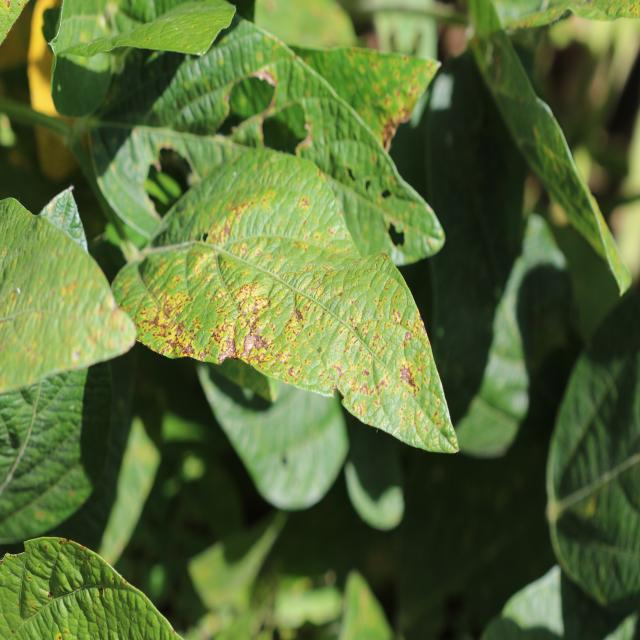Bacterial_Blight: (343, 328, 402, 407), (145, 288, 202, 353), (377, 84, 418, 135), (217, 197, 266, 239), (241, 321, 275, 365), (333, 364, 345, 380), (293, 307, 304, 322), (404, 330, 413, 344)
Soybean: (113, 149, 458, 453)
